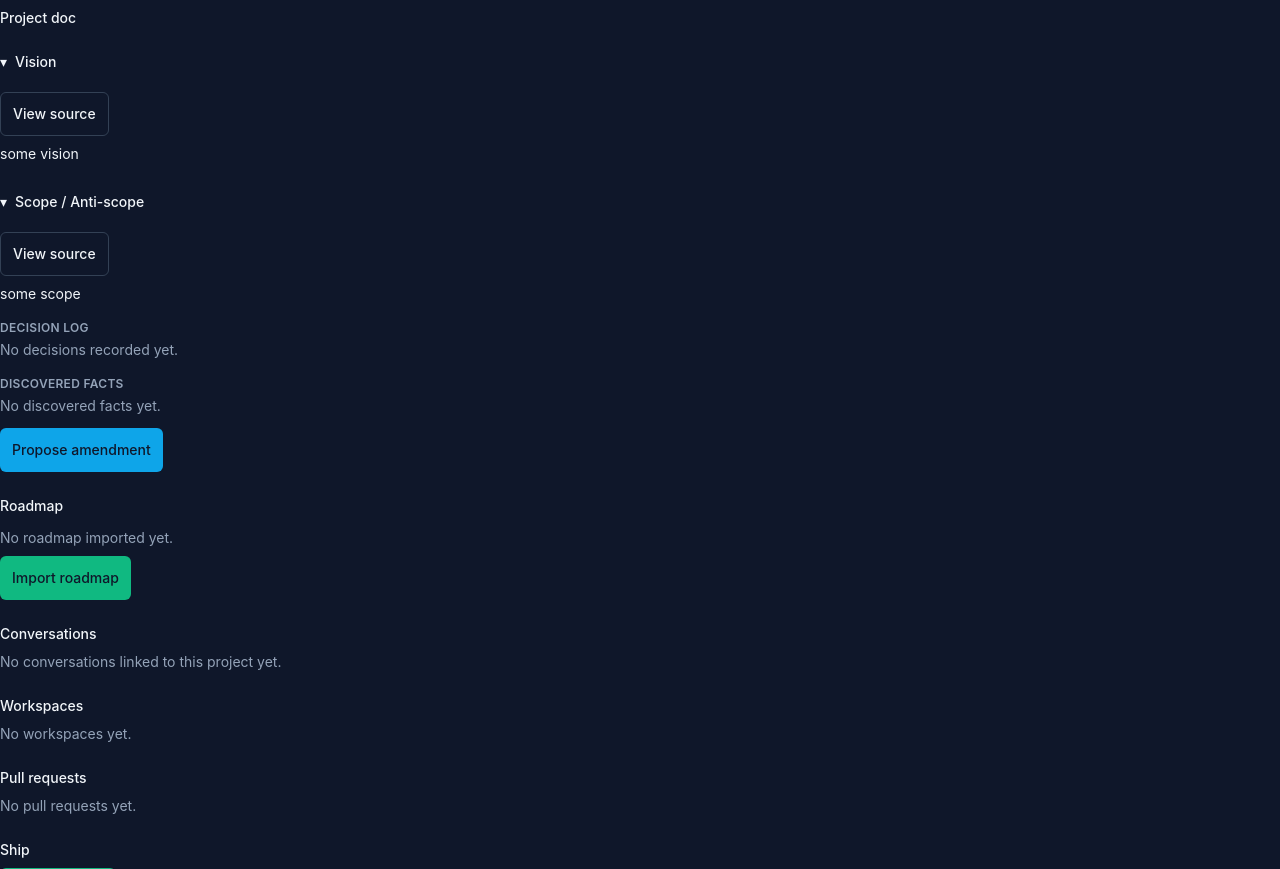
Test case: Project busy-state sites onto the shared action hook › ProposeAmendmentModal closes on a successful settle
The image size is (1280, 869).
(page scrolled)
Step 1. Click the button with test id "propose-amendment-button" → (81, 450), box [0, 428, 163, 472]
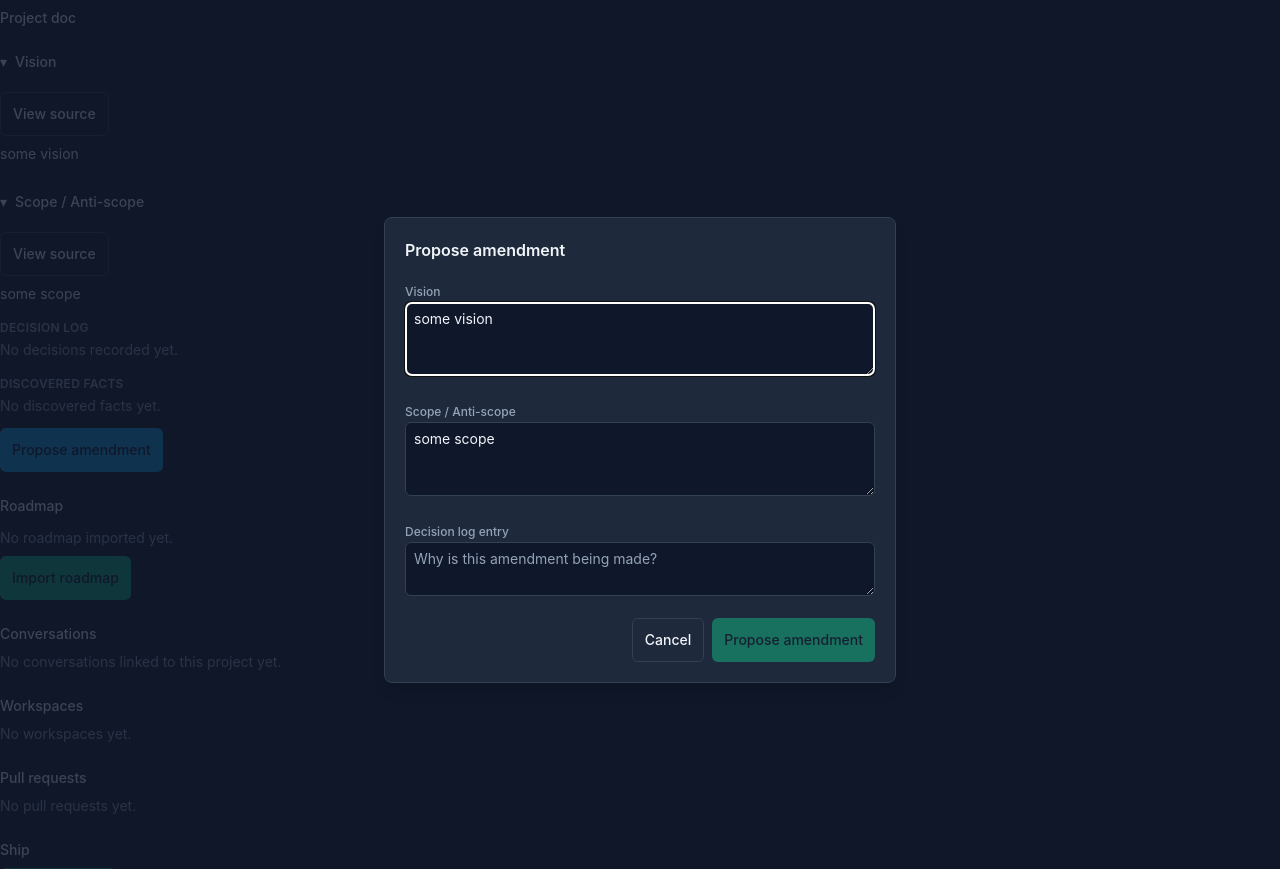
Step 2. Type "shipping this amendment" into the text box with test id "amendment-decision-entry" → (640, 569), box [405, 542, 875, 596]
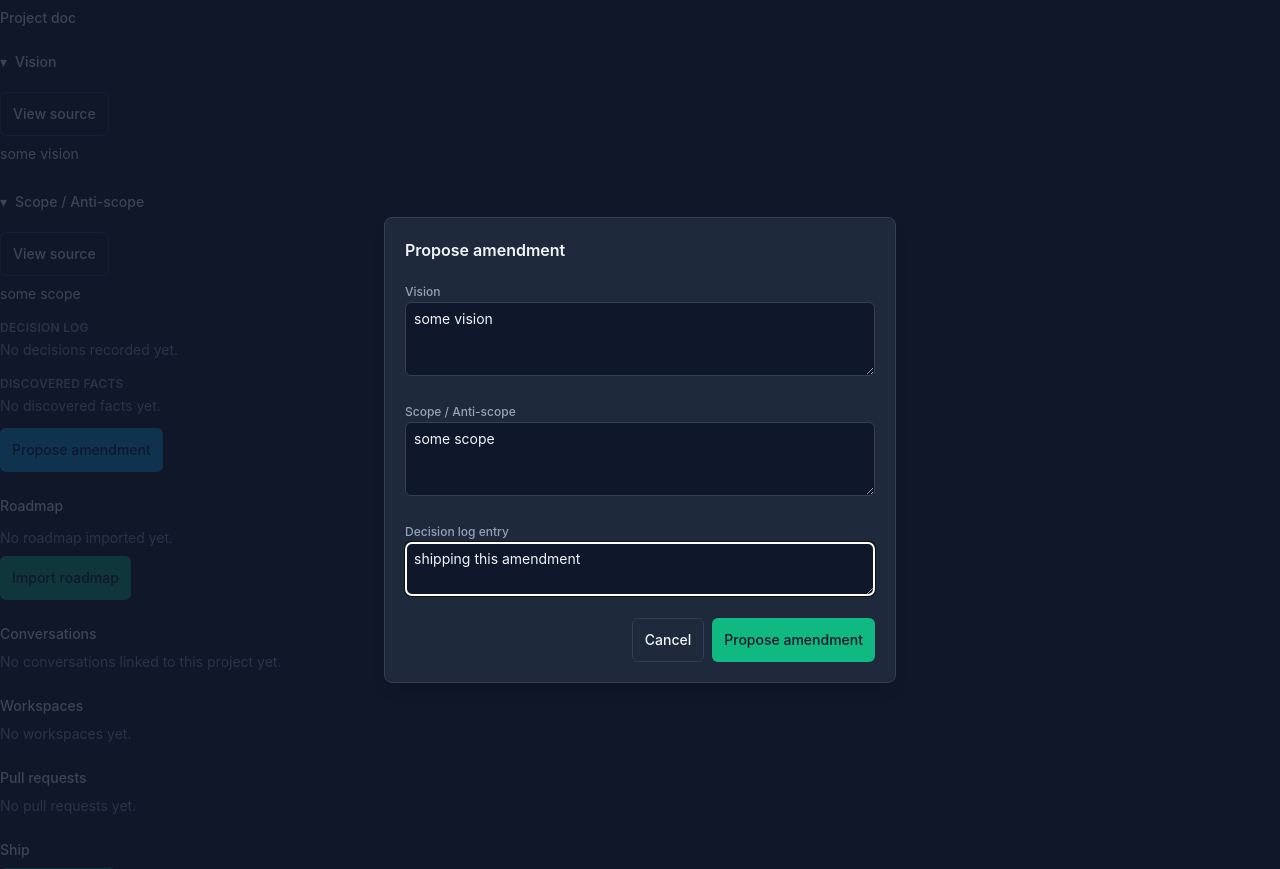
Step 3. Click the button with test id "propose-amendment-submit" → (794, 640), box [712, 618, 875, 662]
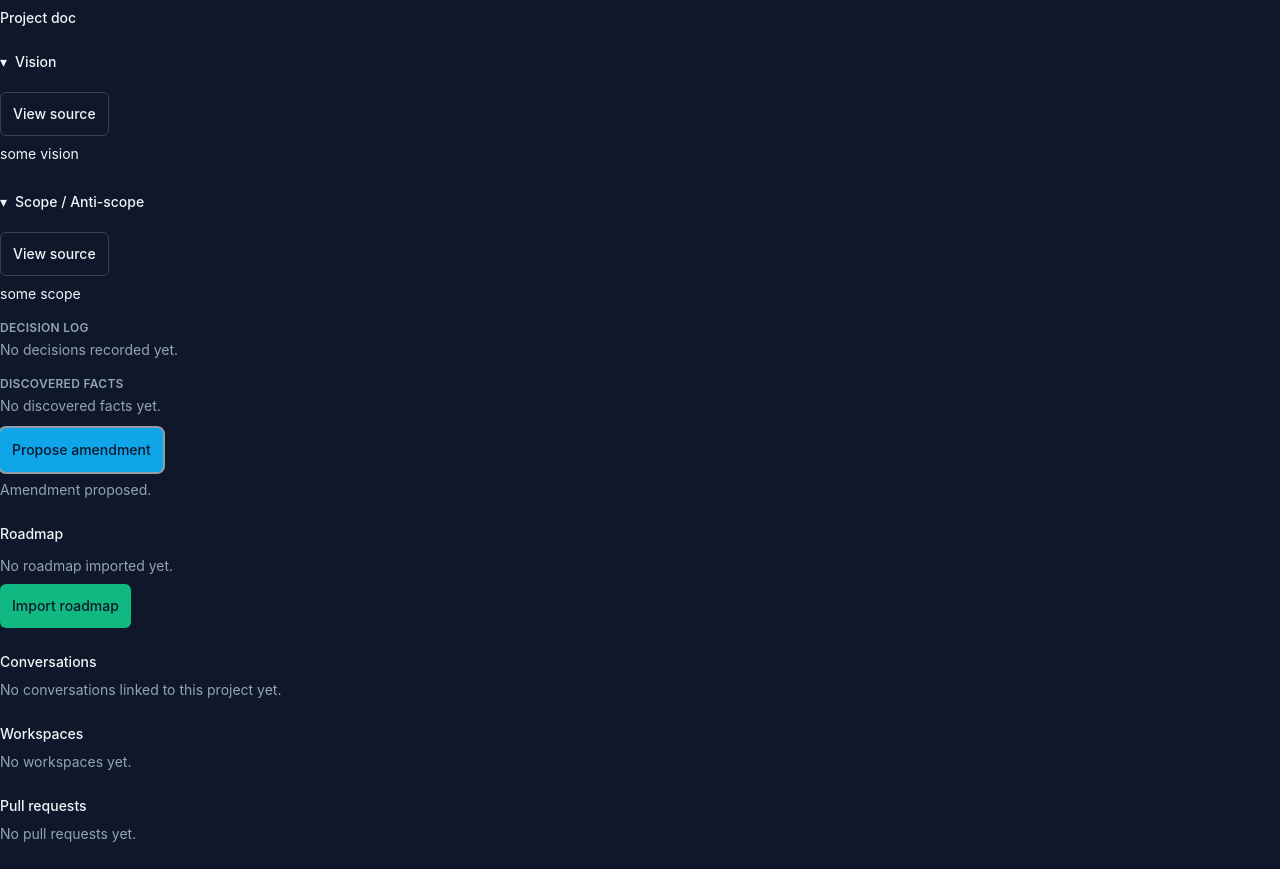
expect the text "Amendment proposed." is shown: met, box [0, 481, 151, 498]
expect the dialog with test id "propose-amendment-dialog" is gone: met
